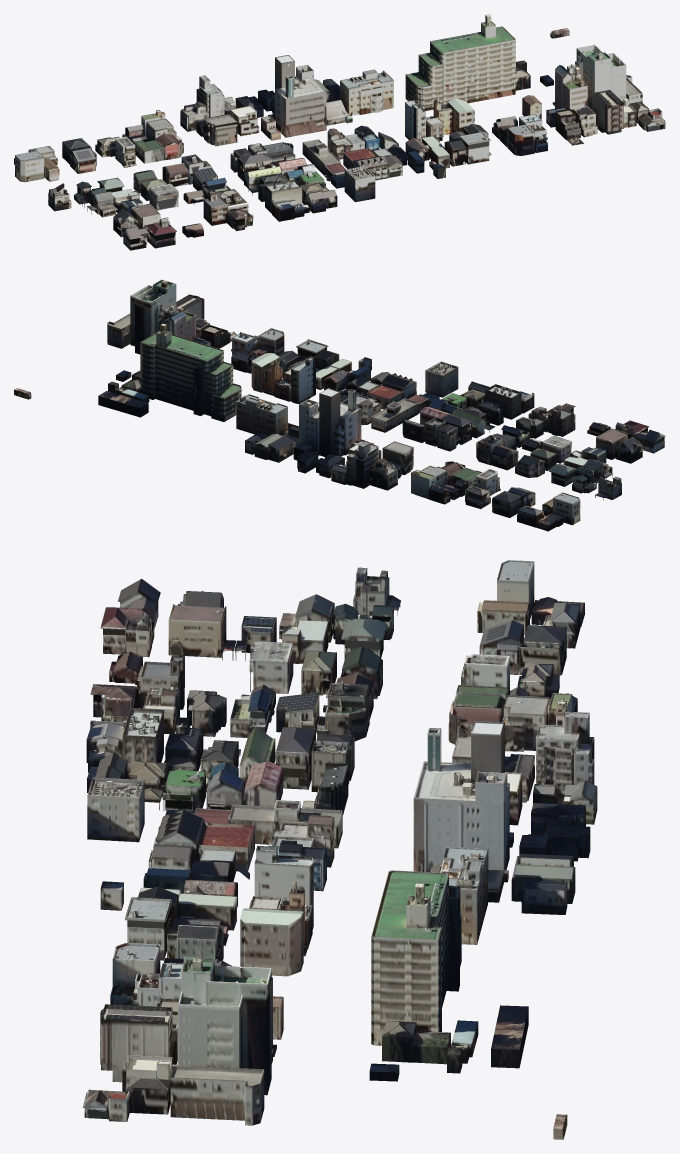
Rendered from station-8-0-packed.glb.
3 views of the same model, one above another, from view 1: azimuth 30°, elevation 25°; view 2: azimuth 150°, elevation 25°; view 3: azimuth 270°, elevation 25° (orthographic). The views are drawn at different scales.
Size of the model in its own units: 307 by 38.6 by 123.
6 materials, 5 textured.
